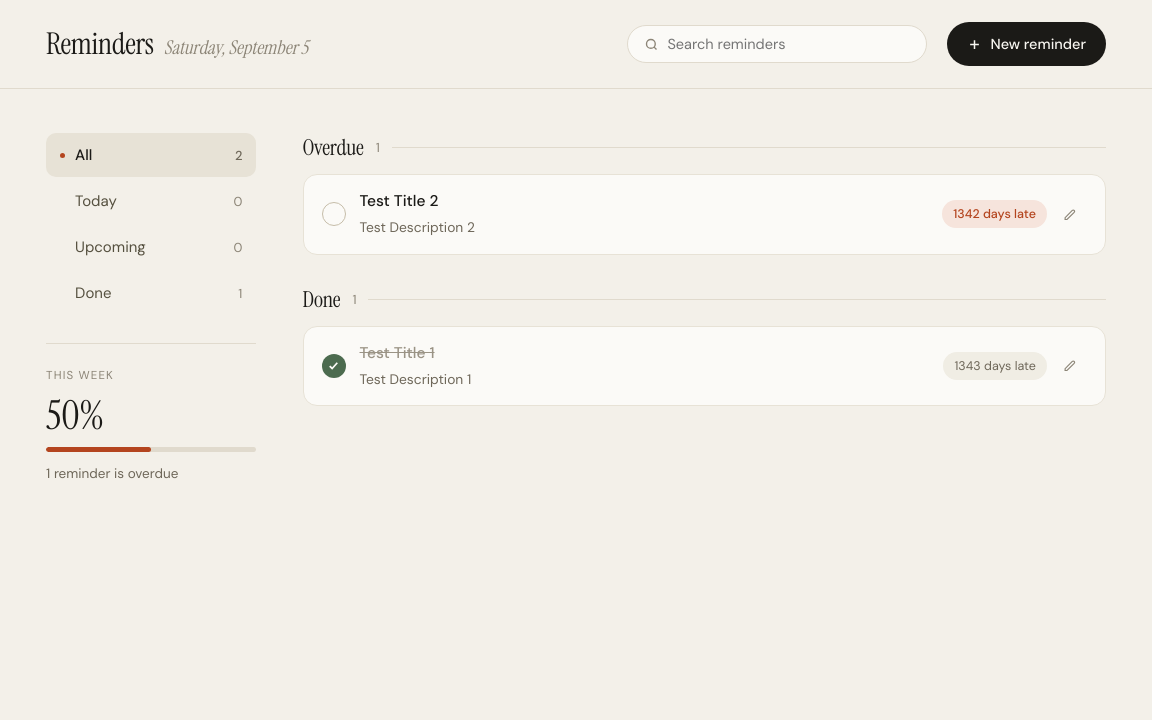
Scenario: RemindersList › keeps the sheet open and shows the error when saving fails
Click the button "New reminder" at point(1027, 44), box [947,22,1106,66]
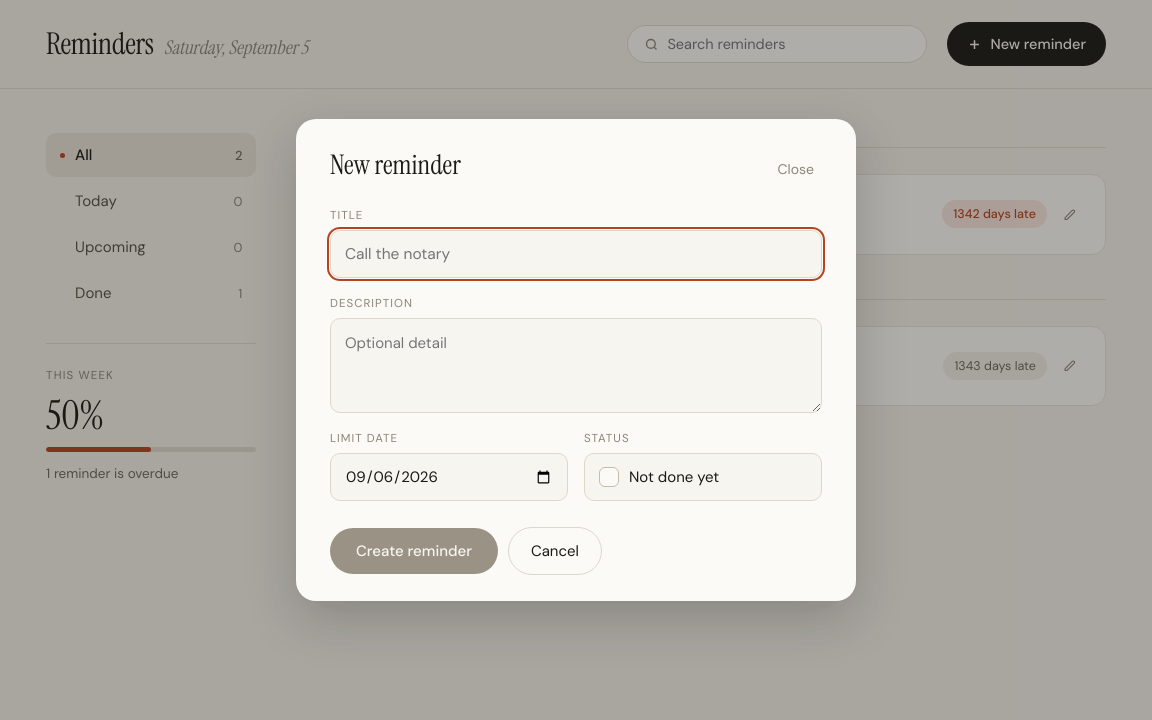
Type "Buy milk" into the field with test id "title" at point(576, 254), box [330,230,822,278]
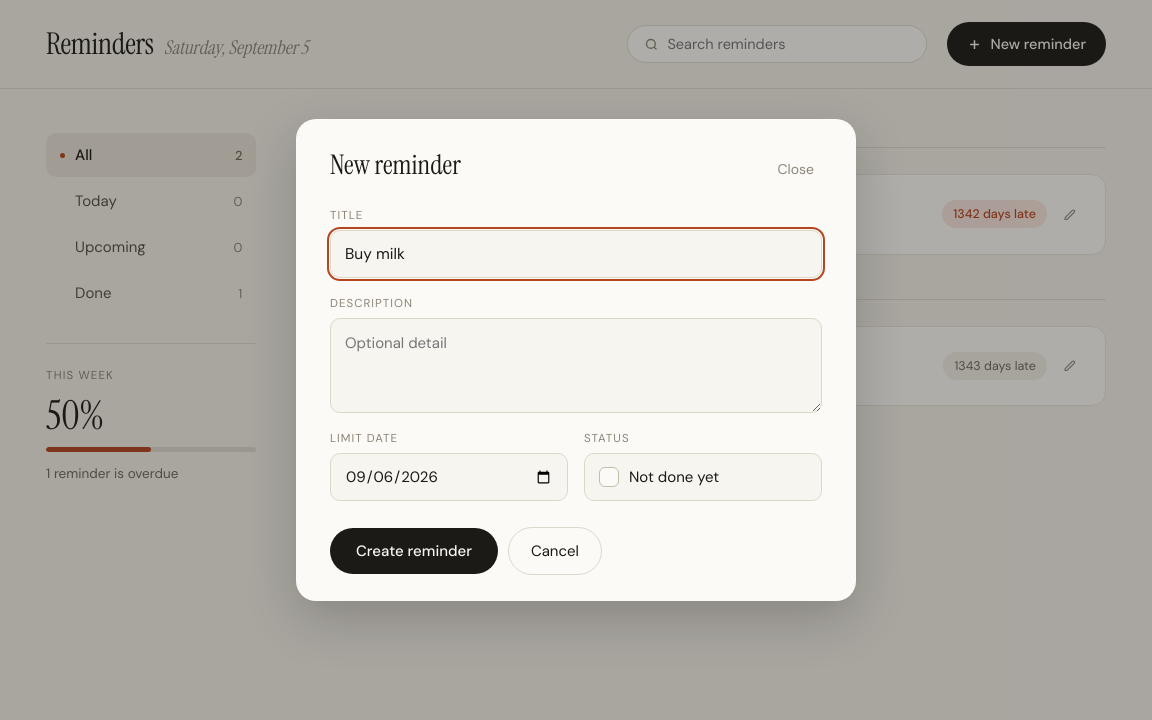
Click the button with test id "save-button" at point(414, 551), box [330,528,498,574]
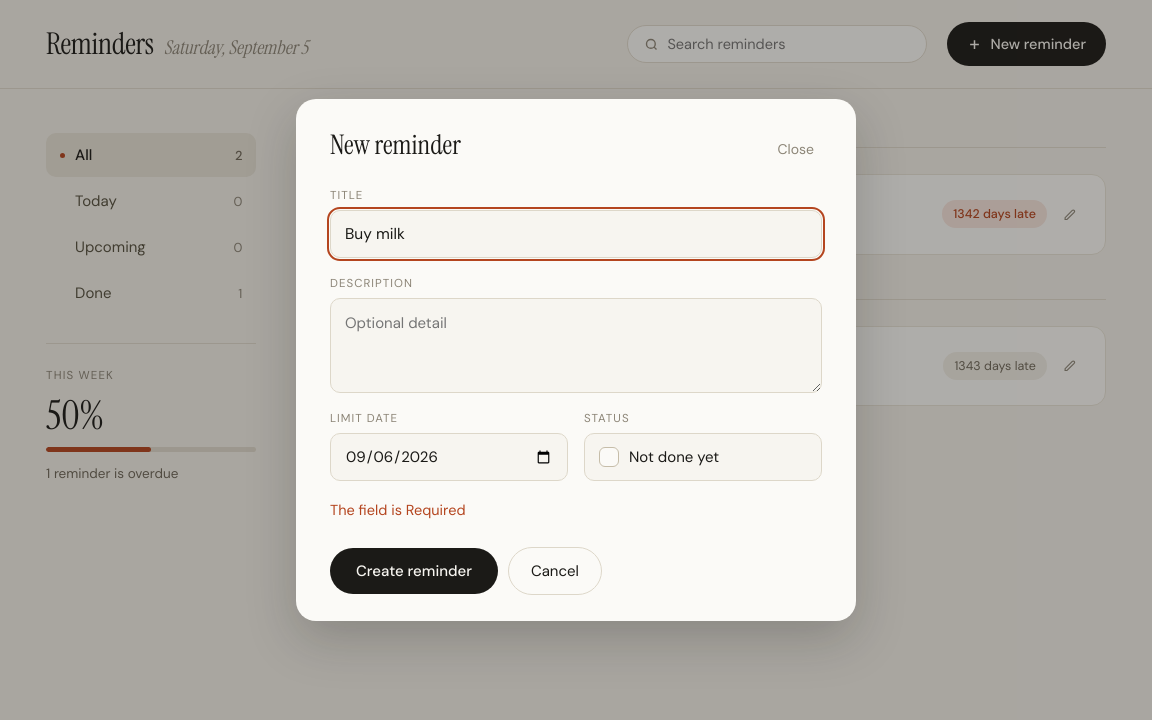
Check: the dialog is shown, box [296,98,856,622]
Check: the text "The field is Required" is shown, box [330,501,466,519]
